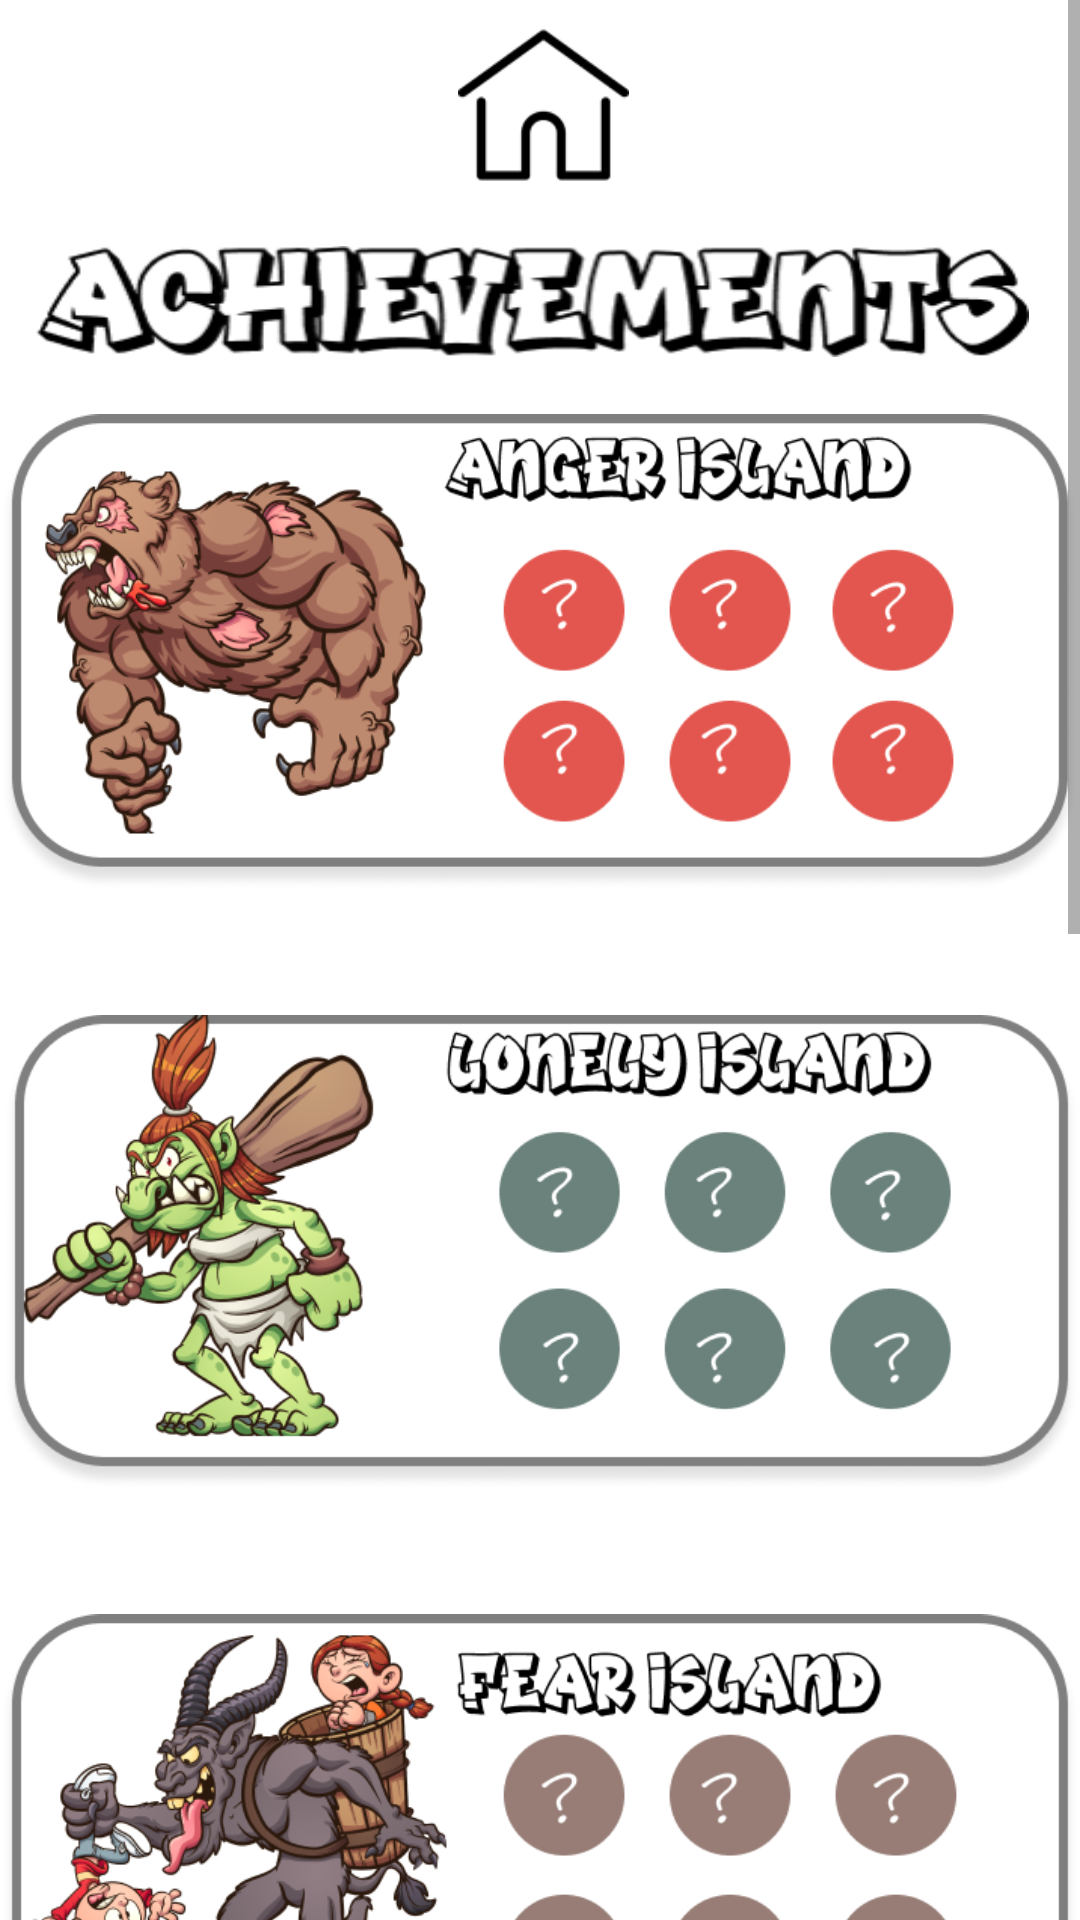

Icons on this 1080×1920 Android screen, each with its box as Rect(x1, y1, x2, y2):
home: Rect(458, 29, 629, 181)
